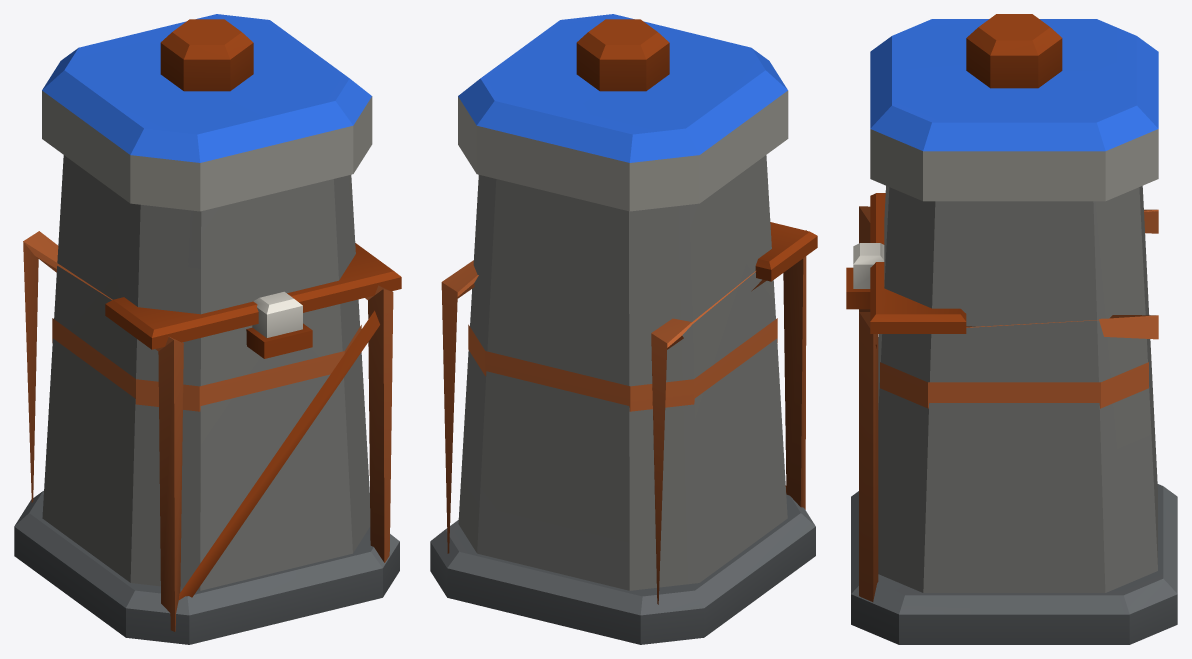
File: a_b08_post.glb
3 views of the same model, side by side, from view 1: azimuth 30°, elevation 25°; view 2: azimuth 150°, elevation 25°; view 3: azimuth 270°, elevation 25° (orthographic). The views are drawn at different scales.
Parts seen in each view (by area): view 1: body, scaffoldFrame; view 2: body, scaffoldFrame; view 3: body, scaffoldFrame.
Boxes of the visible parts, x1,y1,x2,y2 form: body: (14, 14, 399, 644); scaffoldFrame: (23, 231, 401, 631); body: (430, 14, 815, 644); scaffoldFrame: (441, 222, 817, 604); body: (846, 14, 1177, 644); scaffoldFrame: (859, 193, 1158, 601).
Bounding box in the file's own units: 0.68 × 1.26 × 0.69.
